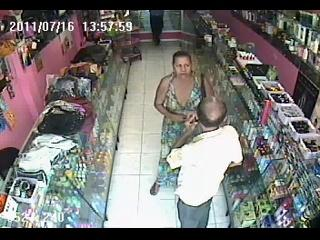Normal: (166, 96, 244, 227), (149, 50, 216, 197), (148, 10, 164, 46)
